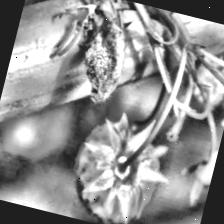Gray Mold: (47, 0, 138, 108)
